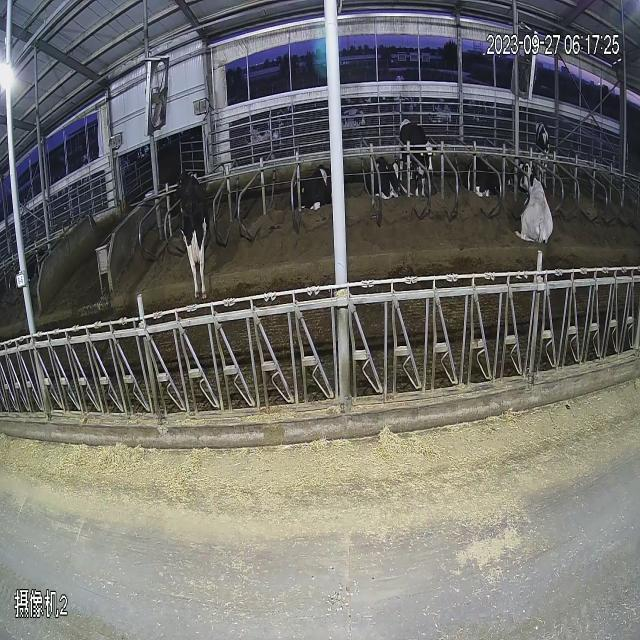lying down: (518, 158, 551, 253), (292, 154, 334, 223), (363, 149, 406, 206), (461, 144, 498, 202)
standing: (169, 150, 224, 308), (398, 106, 435, 202), (536, 110, 560, 182)
